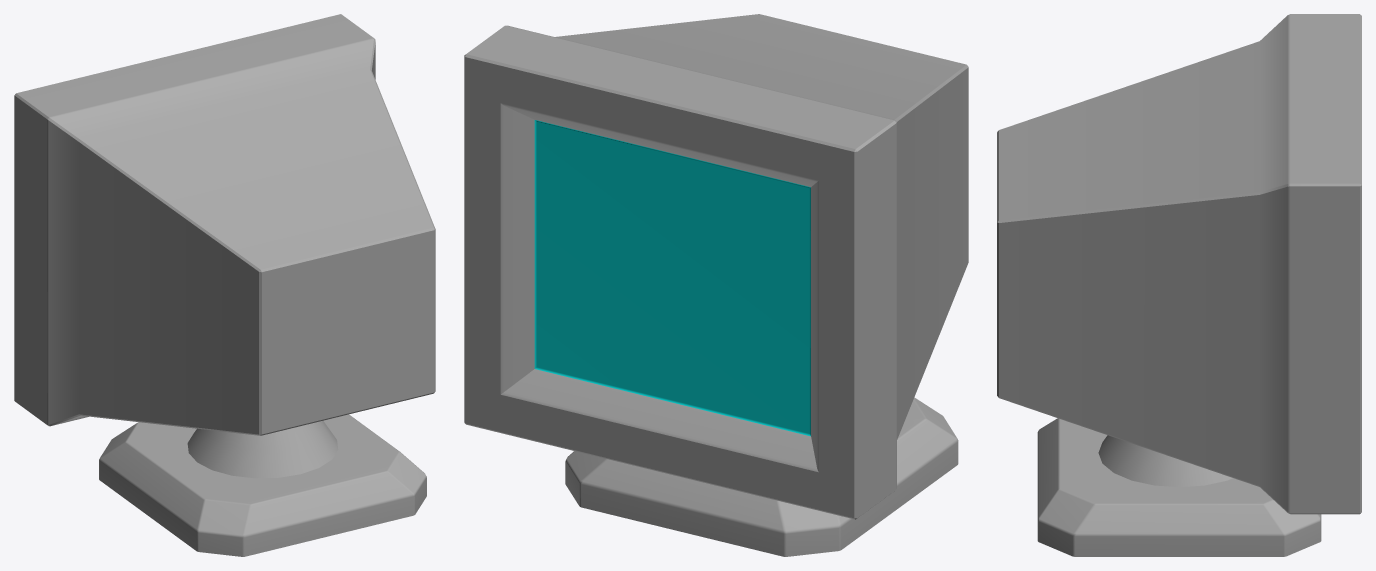
The model's file is monitor.fbx.
3 renders of one model, left to right at view 1: azimuth 30°, elevation 25°; view 2: azimuth 150°, elevation 25°; view 3: azimuth 270°, elevation 25°, orthographic. The views are drawn at different scales.
Parts seen in each view (by area): view 1: monitorScreen, monitorBase, monitorNeck; view 2: monitorScreen, monitorBase; view 3: monitorScreen, monitorBase, monitorNeck.
Part boxes in pixels (x1,y1,x2,y2): monitorScreen: (14, 14, 435, 435); monitorBase: (99, 414, 426, 556); monitorNeck: (187, 421, 338, 478); monitorScreen: (464, 14, 968, 519); monitorBase: (565, 397, 958, 556); monitorScreen: (997, 14, 1361, 514); monitorBase: (1037, 418, 1321, 556); monitorNeck: (1098, 435, 1232, 487).
Size of the model in its own units: 50 by 54.2 by 45.
